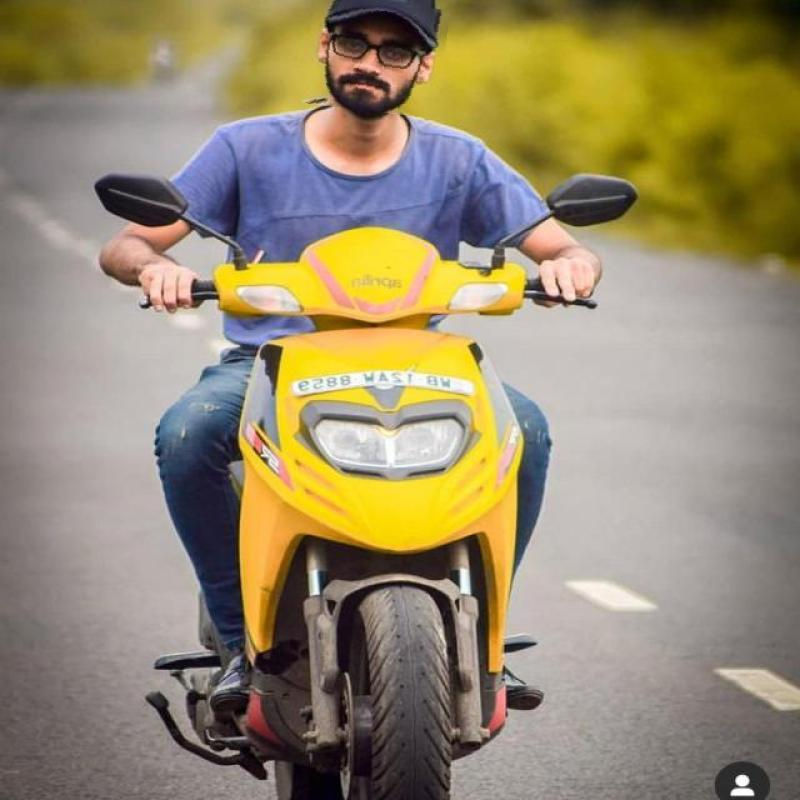nohelmet: (305, 0, 447, 114)
